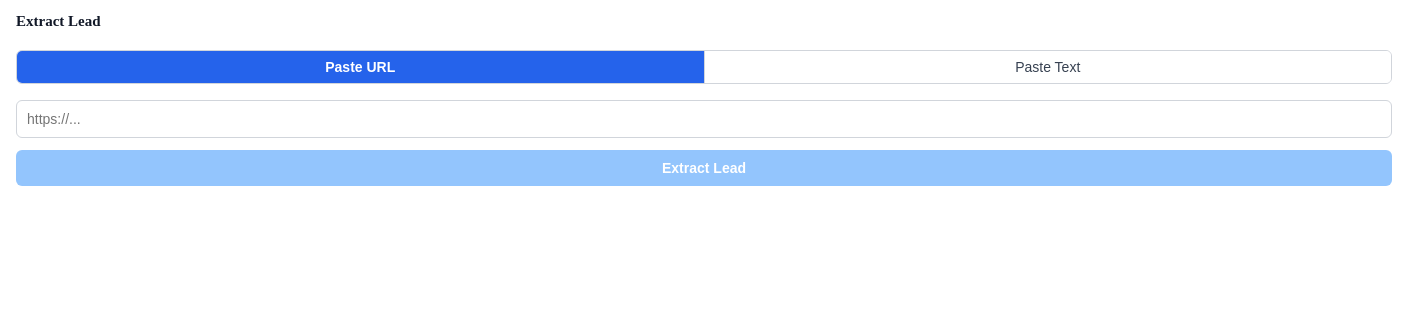
Test case: InputPanel › switches to textarea when Paste Text is clicked
Click the button "Paste Text": (1047, 67) [704,51,1391,83]
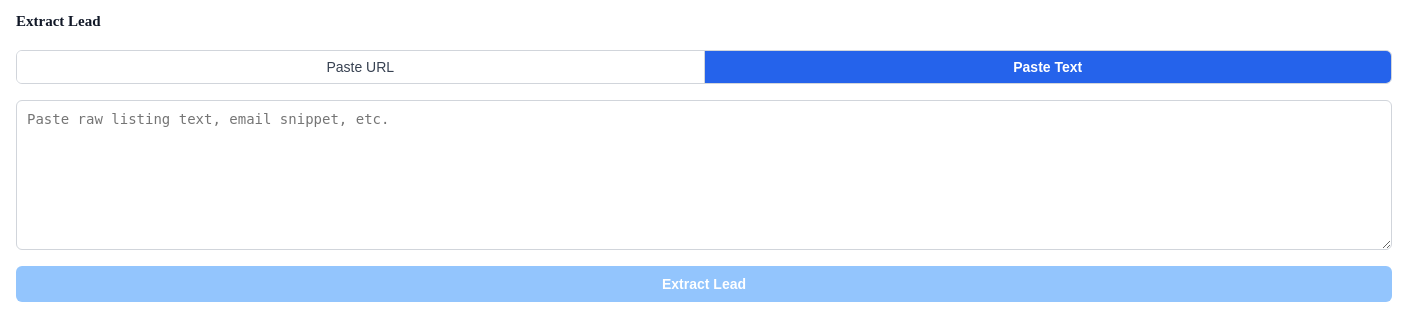
Check: the text box with placeholder "Paste raw listing text, email snippet, etc." is shown, box [16,100,1392,250]
Check: the field with placeholder "https://..." is gone
